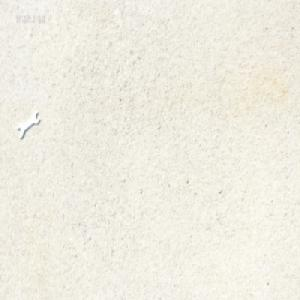Wrench: (17, 107, 40, 138)
